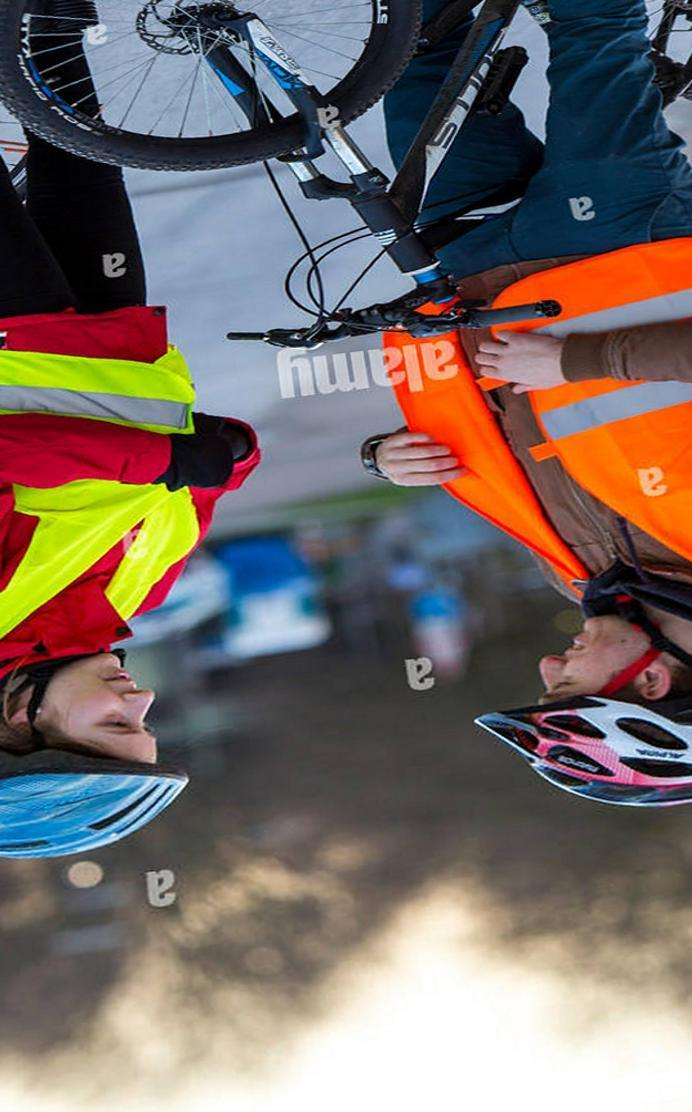Vest: (0, 328, 205, 632)
